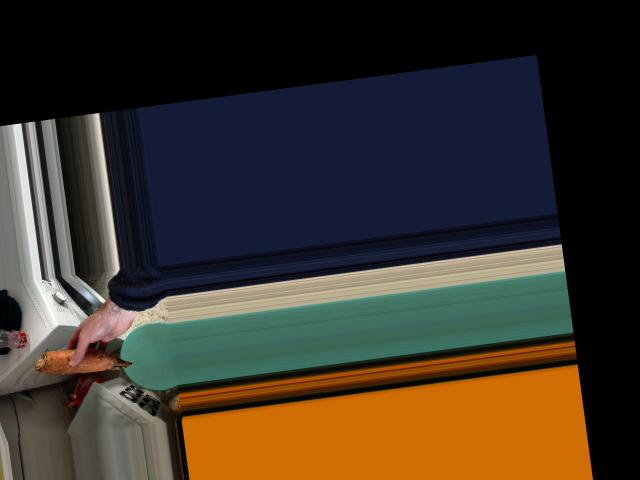sweet_potato: (34, 339, 128, 378)
